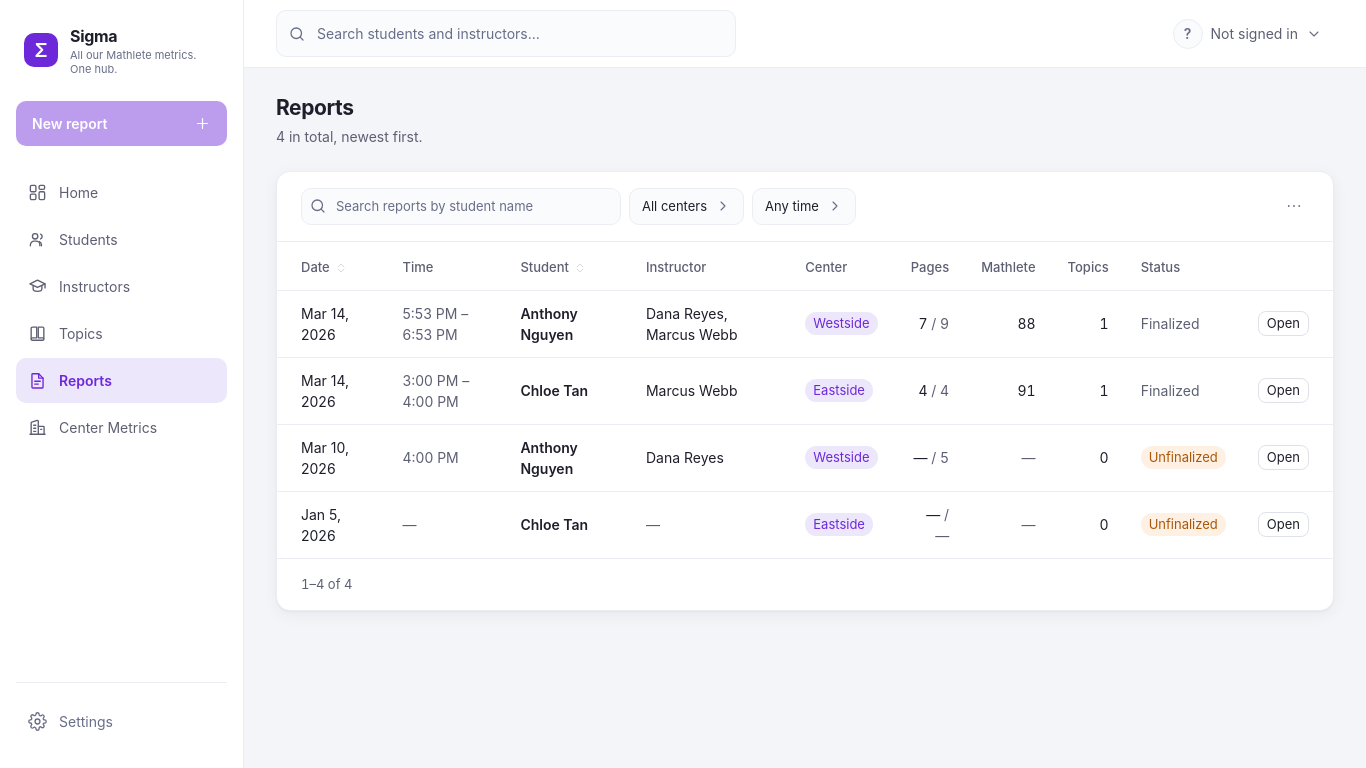
Test: reports page › expands a row to the session it describes
This screenshot has width=1366, height=768.
Click the row "Anthony Nguyen" at (805,324), box [277,290,1333,357]
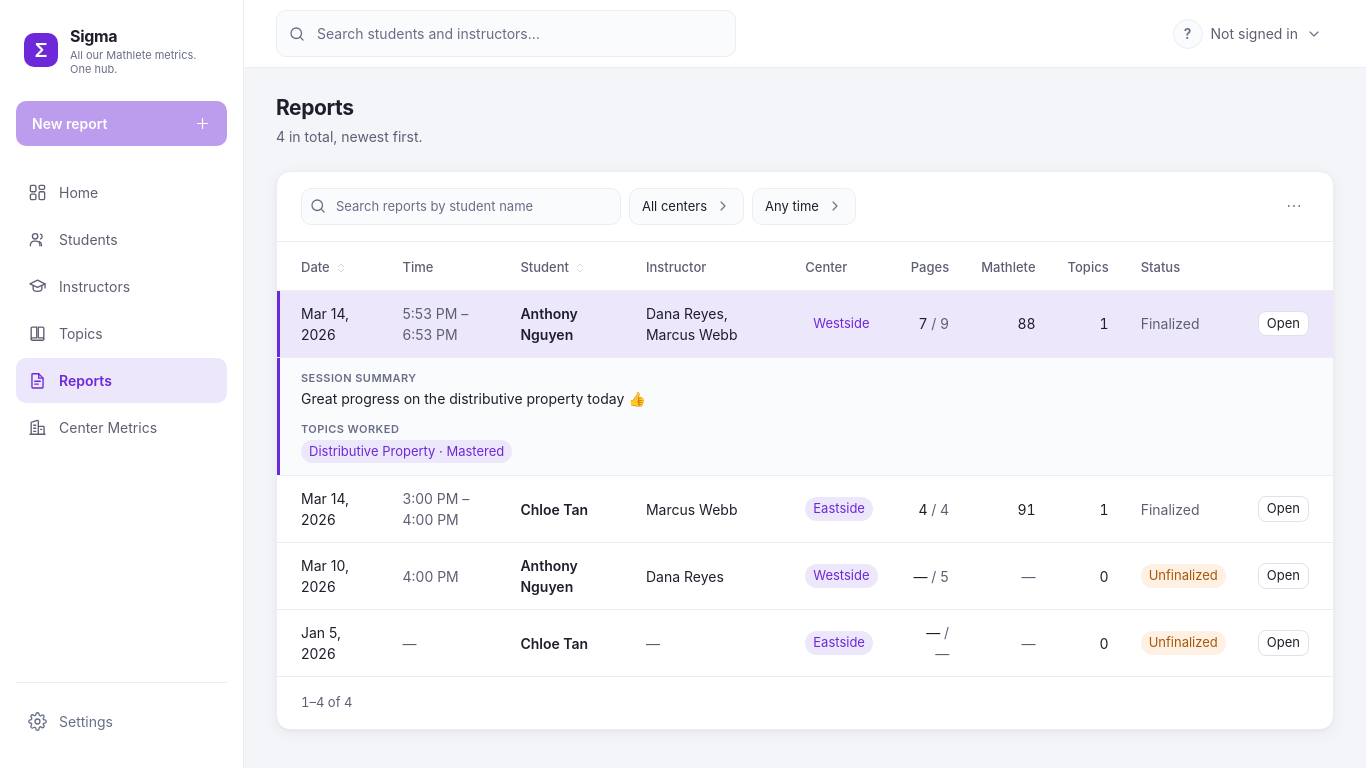
expect the text "Session summary" is shown: met, box [301,370,417,384]
expect the text "Great progress on the distributive property today 👍" is shown: met, box [301,390,646,407]
expect the text "Distributive Property · Mastered" is shown: met, box [301,440,512,463]
